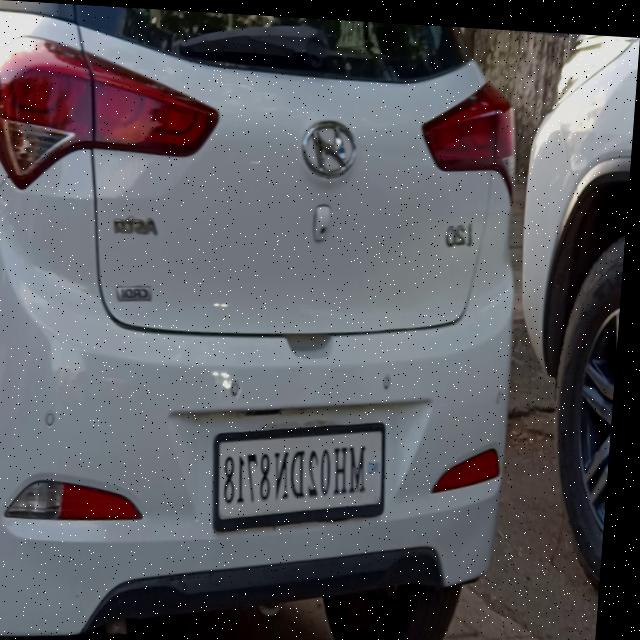plate: (210, 400, 399, 537)
